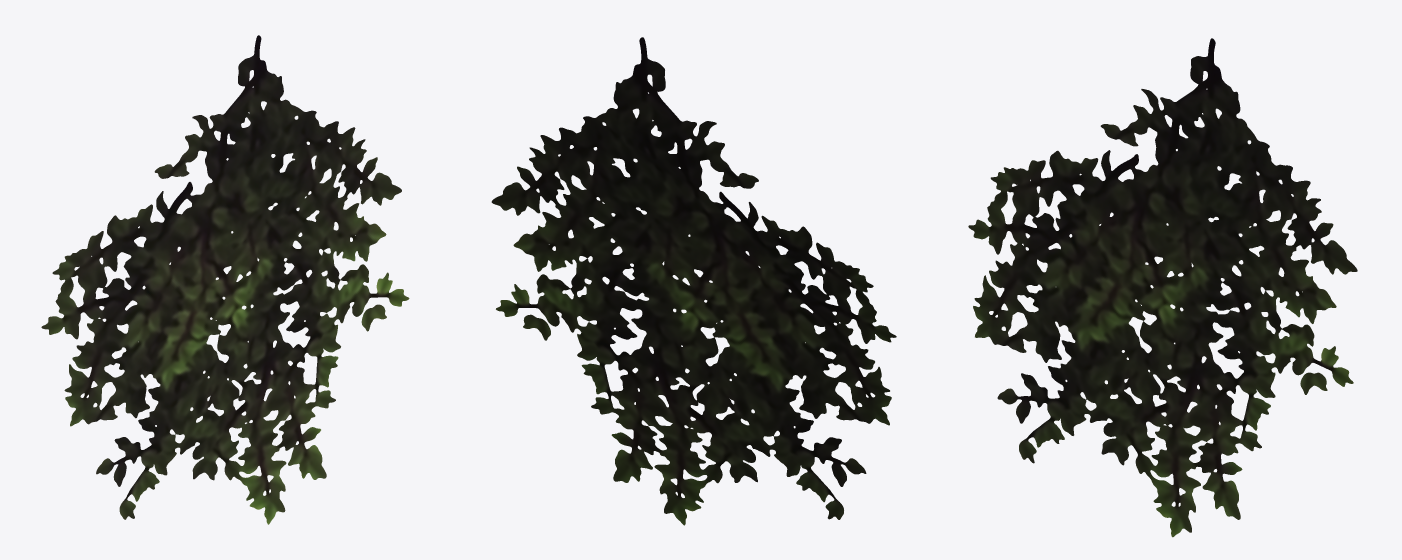
File: Tree Branch Back.FBX
The picture shows the model from 3 angles, left to right: view 1: azimuth 30°, elevation 25°; view 2: azimuth 150°, elevation 25°; view 3: azimuth 330°, elevation 25°; orthographic projection. The views are drawn at different scales.
Parts seen in each view (by area): view 1: Tree Branch Back; view 2: Tree Branch Back; view 3: Tree Branch Back.
Boxes of the visible parts, bbox=[...] form: Tree Branch Back: bbox=[41, 35, 409, 524]; Tree Branch Back: bbox=[491, 37, 896, 525]; Tree Branch Back: bbox=[968, 38, 1357, 537].
Bounding box in the file's own units: 224 × 26.23 × 253.
